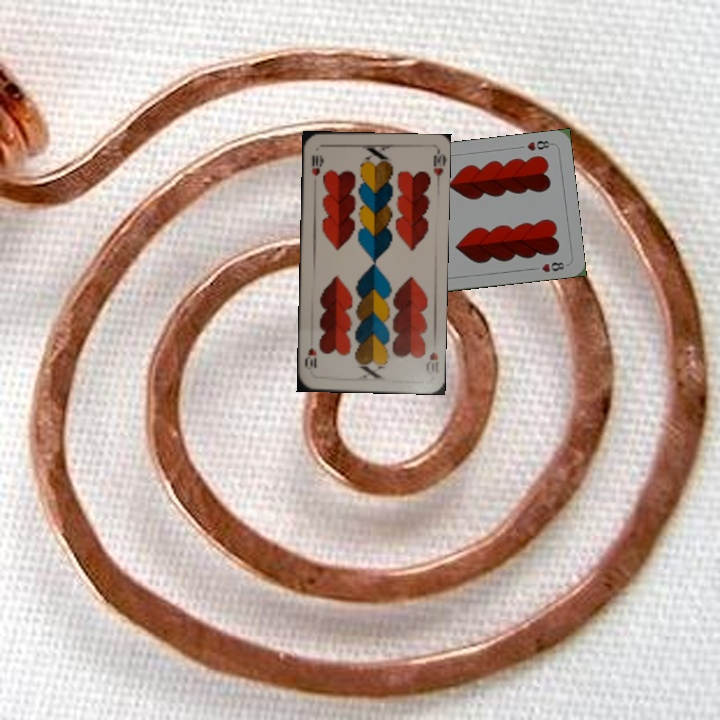H10: (422, 348, 441, 377), (308, 151, 325, 178)
H8: (523, 137, 555, 154)
